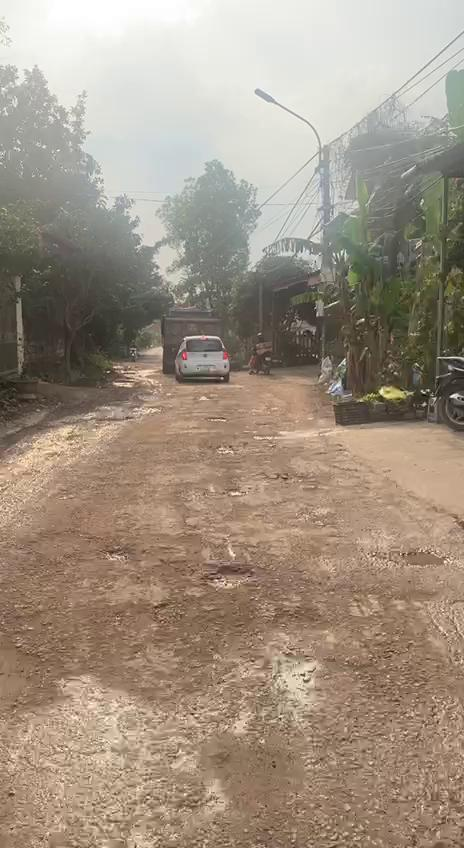pothole: (270, 651, 324, 741), (201, 560, 257, 596), (384, 547, 450, 568), (102, 545, 132, 564), (212, 443, 240, 456), (224, 485, 244, 499), (208, 414, 228, 422)
